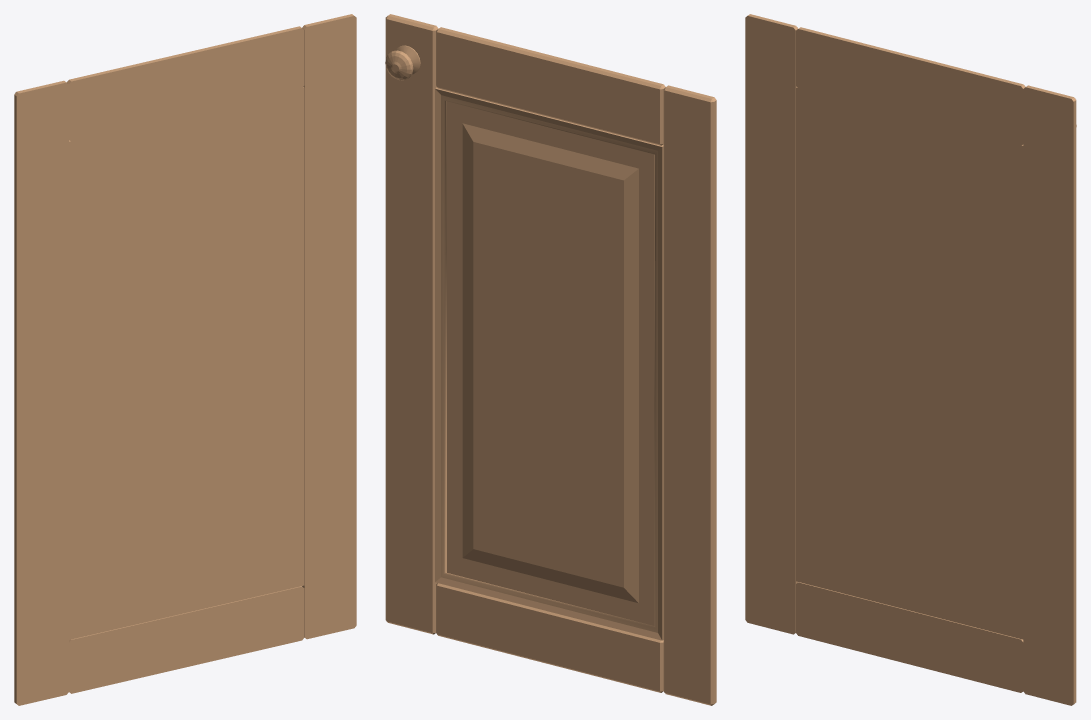
File: puerta_alacenaD.obj
The picture shows the model from 3 angles, left to right: view 1: azimuth 30°, elevation 25°; view 2: azimuth 150°, elevation 25°; view 3: azimuth 330°, elevation 25°; orthographic projection.
Parts seen in each view (by area): view 1: polySurface564; view 2: polySurface564; view 3: polySurface564.
Boxes of the visible parts, <box> form: polySurface564: <box>14,14,356,705</box>; polySurface564: <box>385,14,716,705</box>; polySurface564: <box>745,14,1076,705</box>.
Size of the model in its own units: 1.15 by 2.01 by 0.0925.
Materials: 1 (1 with a texture image).
